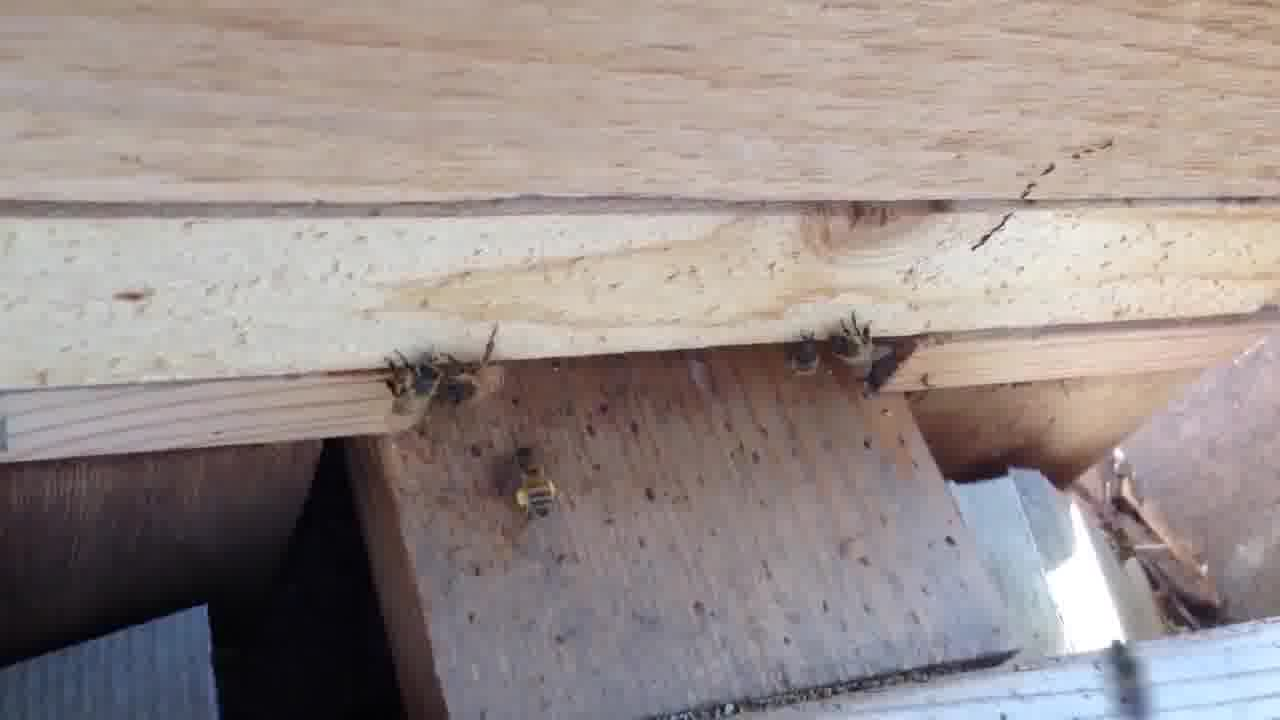pollen: (505, 443, 569, 524)
